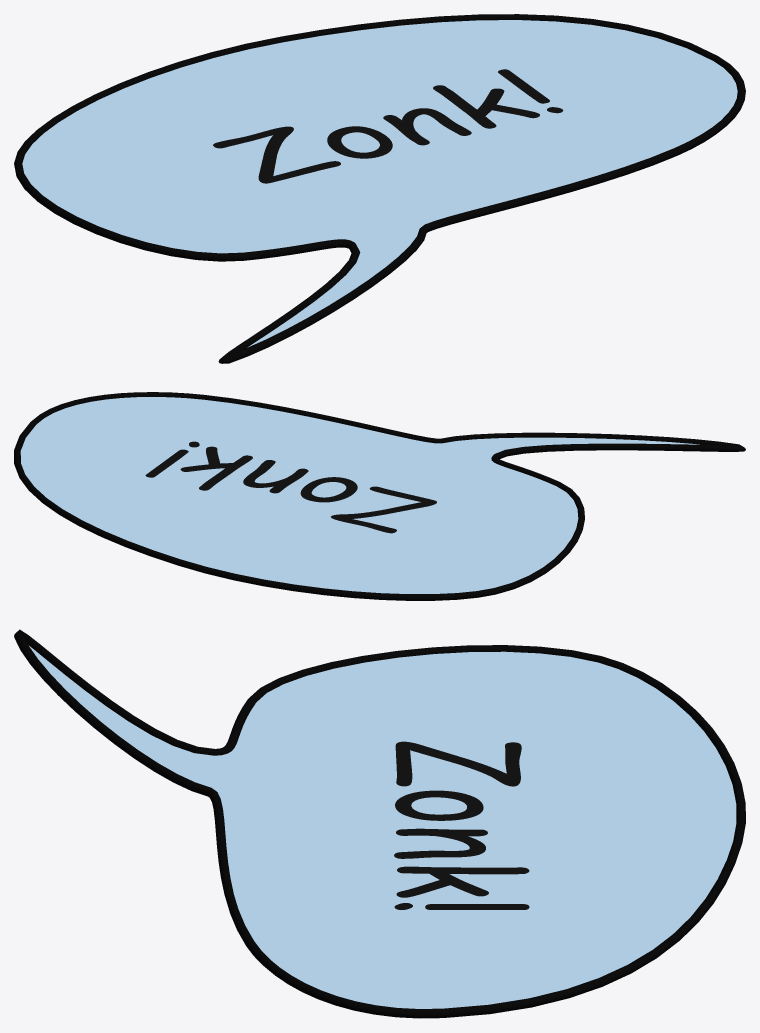
The model's file is Zonk.fbx.
The picture shows the model from 3 angles, top to bottom: view 1: azimuth 30°, elevation 25°; view 2: azimuth 150°, elevation 25°; view 3: azimuth 270°, elevation 25°; orthographic projection. The views are drawn at different scales.
Parts seen in each view (by area): view 1: BezierCircle, BezierCircle.001, Text; view 2: BezierCircle, BezierCircle.001, Text; view 3: BezierCircle, BezierCircle.001, Text.
Boxes of the visible parts, box(x1,y1,x2,y2) form: BezierCircle: box(22, 20, 737, 347); BezierCircle.001: box(14, 14, 745, 363); Text: box(213, 69, 563, 183); BezierCircle: box(20, 397, 699, 593); BezierCircle.001: box(14, 392, 745, 600); Text: box(145, 441, 436, 533); BezierCircle: box(29, 646, 736, 1008); BezierCircle.001: box(14, 629, 745, 1018); Text: box(394, 741, 529, 909).
Bounding box in the file's own units: 192 × 2.58 × 154.
